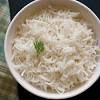rice: (13, 9, 100, 95)
